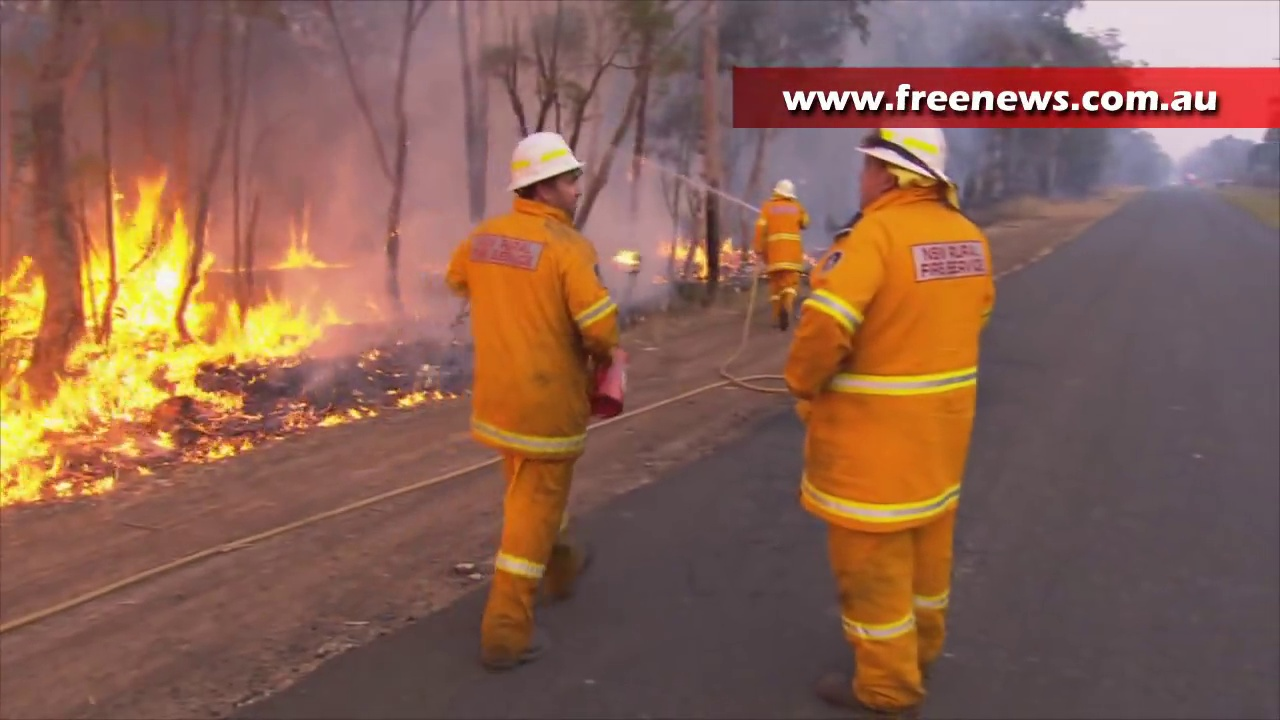fire: (1, 174, 207, 500), (223, 297, 316, 359), (672, 239, 740, 266), (283, 219, 310, 274), (618, 250, 638, 267)
